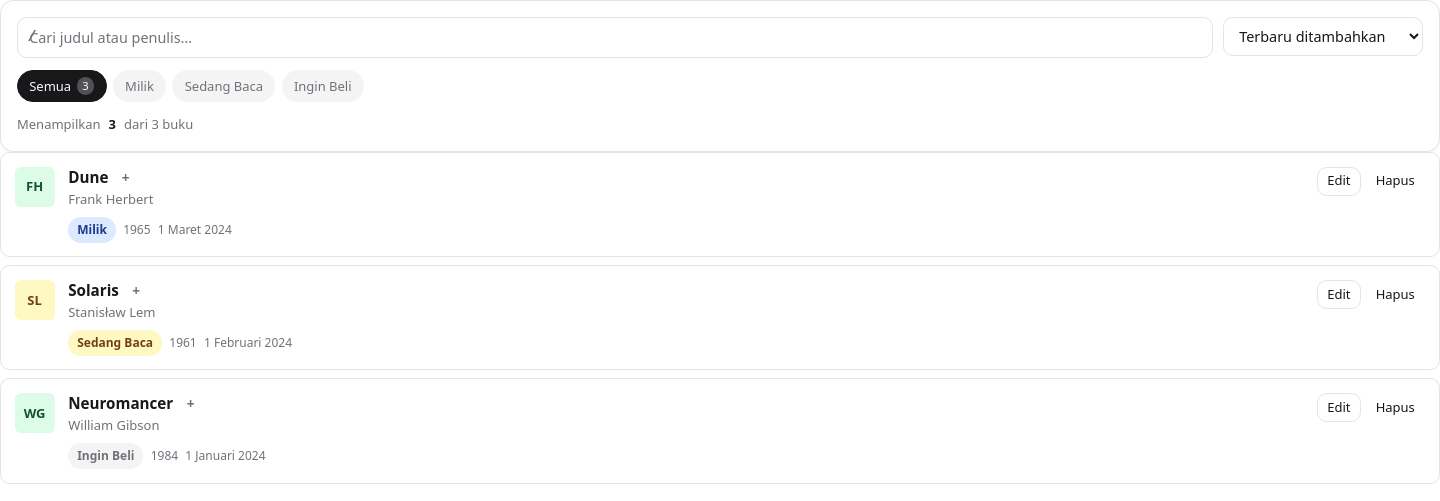
Scenario: useBookFilter + BookFilter + BookList › mencari buku berdasarkan nama penulis
Type "gibson" into the search field named "cari buku".
click(615, 38); type("gibson")  # box 17,17 -> 1213,58
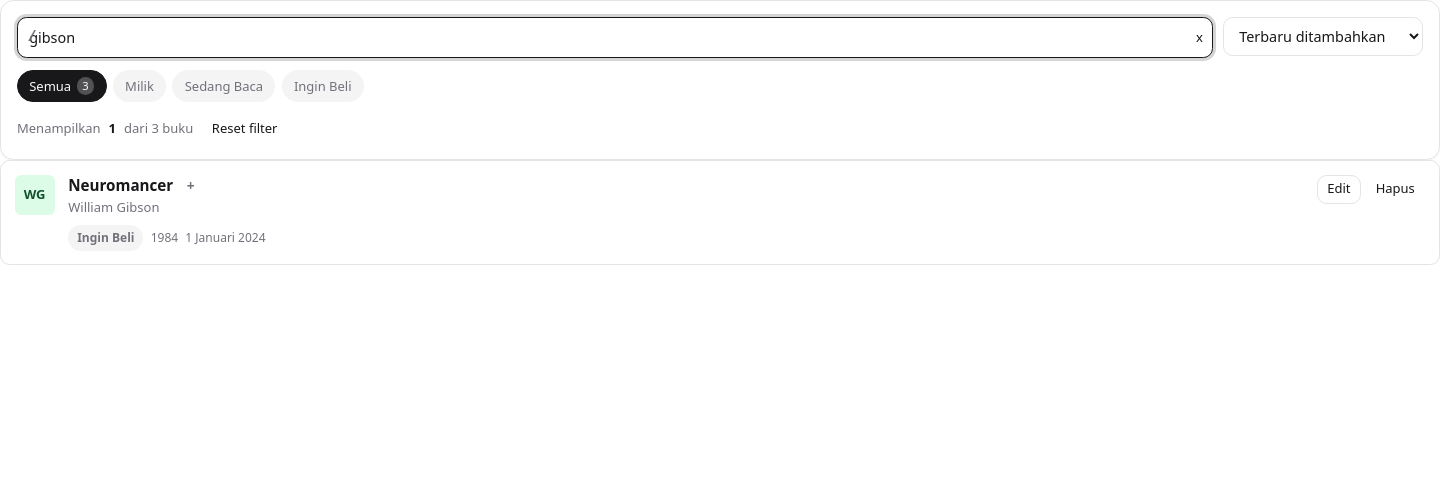
Check: the heading "Neuromancer" is shown, box 68,175 -> 173,195
Check: the heading "Dune" is gone
